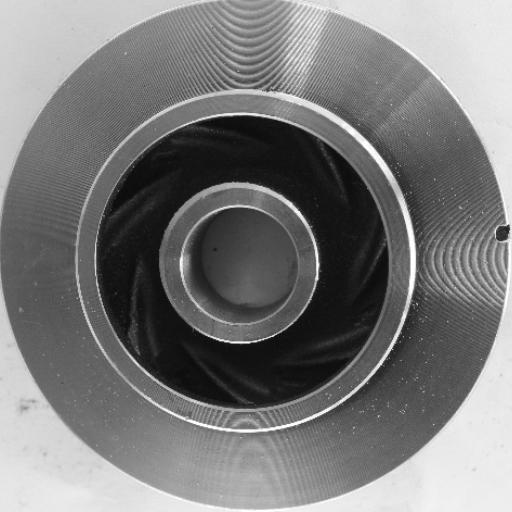pit: (488, 206, 512, 251)
unpolished_casting: (3, 0, 512, 512)
